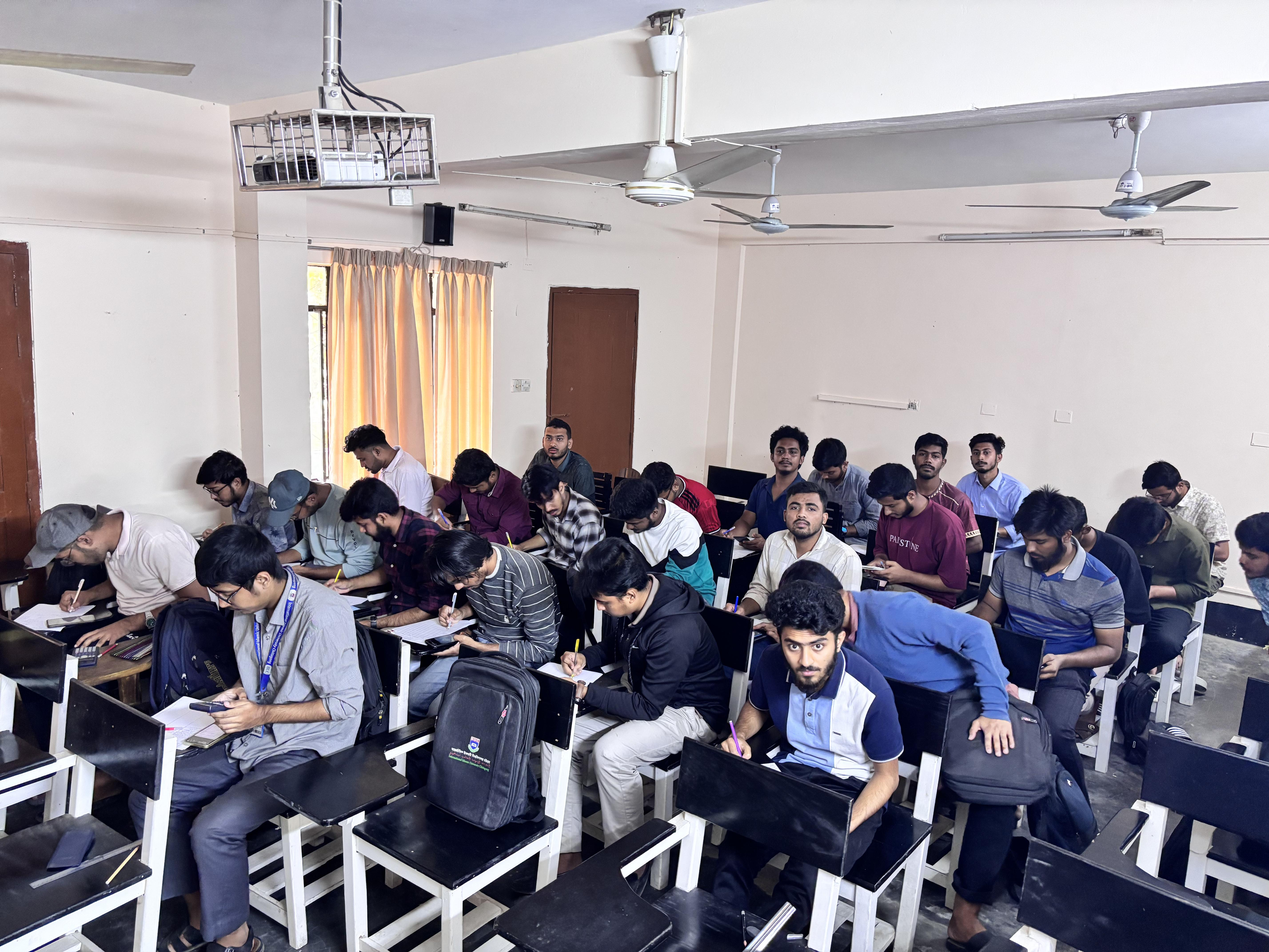copying: (514, 460, 611, 572), (1215, 501, 1269, 666)
no_cheating: (704, 580, 892, 831), (555, 536, 718, 773), (988, 489, 1130, 693), (12, 474, 148, 686), (1101, 478, 1212, 663), (735, 479, 868, 618), (333, 472, 431, 632), (853, 458, 948, 611), (604, 479, 714, 596), (422, 430, 530, 548), (329, 403, 434, 518), (258, 458, 351, 586), (733, 423, 826, 549), (182, 441, 277, 552), (1140, 447, 1242, 547), (956, 420, 1039, 527), (801, 417, 875, 532), (898, 424, 978, 519), (520, 412, 587, 473)
using_phone: (170, 520, 353, 791), (384, 524, 571, 704)
